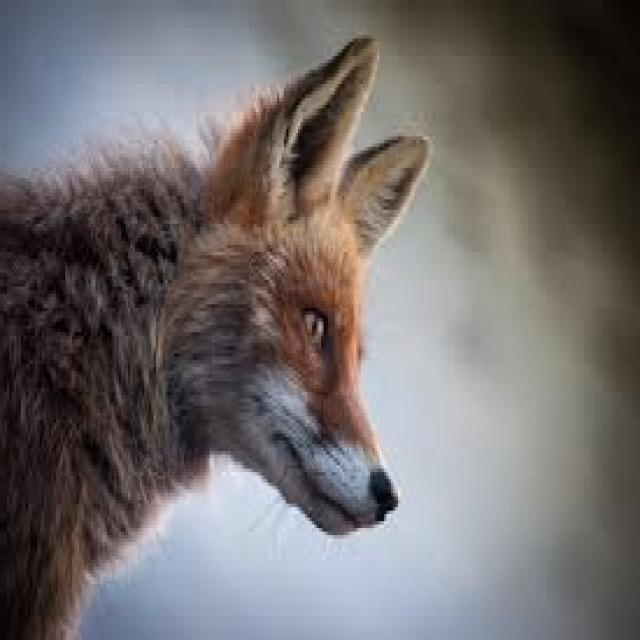fox: (2, 35, 431, 637)
